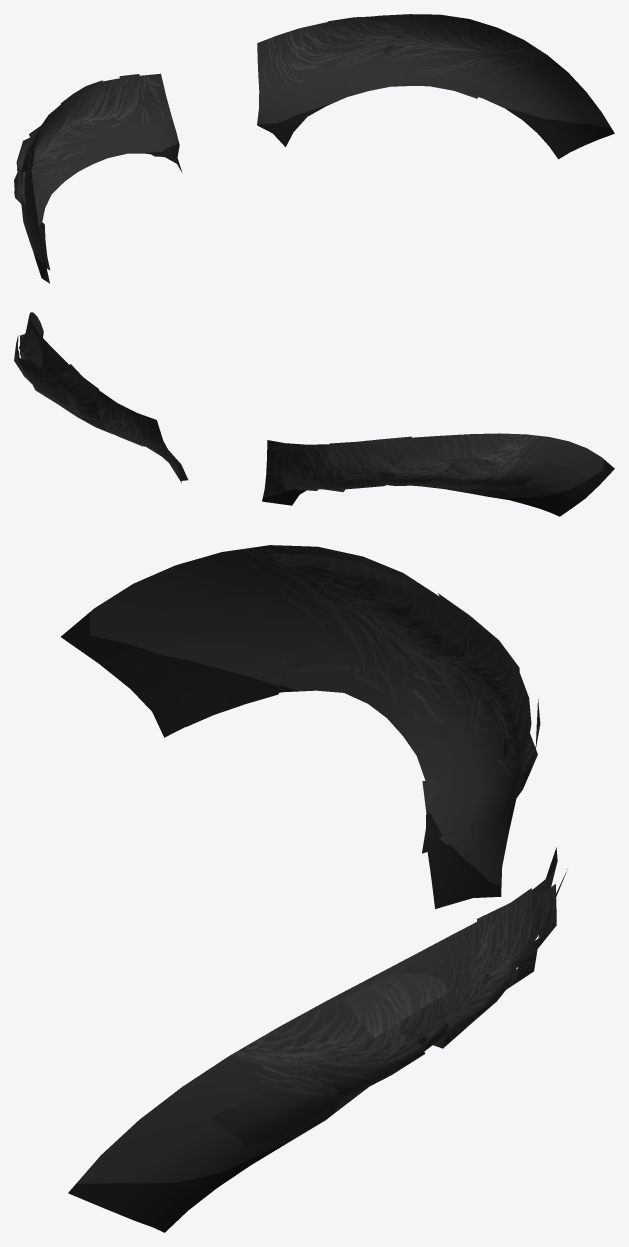
File: eyebrows.obj
3 renders of one model, top to bottom at view 1: azimuth 30°, elevation 25°; view 2: azimuth 150°, elevation 25°; view 3: azimuth 270°, elevation 25°, orthographic. The views are drawn at different scales.
Visible parts, largest first — view 1: mrus_head_eyebrows; view 2: mrus_head_eyebrows; view 3: mrus_head_eyebrows.
Part boxes in pixels (x1=…): mrus_head_eyebrows: x1=14, y1=14, x2=614, y2=283; mrus_head_eyebrows: x1=14, y1=312, x2=614, y2=516; mrus_head_eyebrows: x1=61, y1=545, x2=567, y2=1232.
Bounding box in the file's own units: 0.1191 × 0.0225 × 0.046.
Materials: 1 (1 with a texture image).
